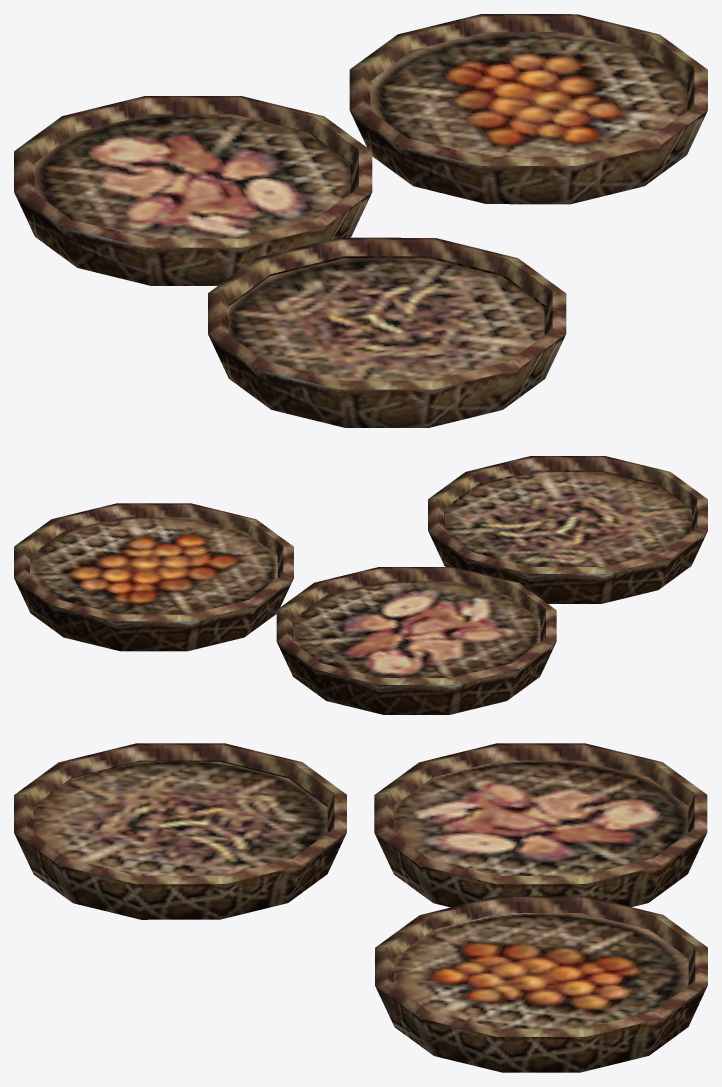
File: JJS_QY_YaoLou.FBX
The picture shows the model from 3 angles, top to bottom: view 1: azimuth 30°, elevation 25°; view 2: azimuth 150°, elevation 25°; view 3: azimuth 270°, elevation 25°; orthographic projection. The views are drawn at different scales.
Parts seen in each view (by area): view 1: JJS_QY_Yao1, JJS_QY_Yao2, JJS_QY_Yao3, JJS_QY_YaoLou3, JJS_QY_YaoLou1, JJS_QY_YaoLou2; view 2: JJS_QY_Yao1, JJS_QY_Yao2, JJS_QY_Yao3, JJS_QY_YaoLou2, JJS_QY_YaoLou1, JJS_QY_YaoLou3; view 3: JJS_QY_Yao1, JJS_QY_Yao2, JJS_QY_Yao3, JJS_QY_YaoLou3, JJS_QY_YaoLou1, JJS_QY_YaoLou2.
Part boxes in pixels (x1,y1,x2,y2): JJS_QY_Yao1: (370,32,687,156); JJS_QY_Yao2: (34,114,350,238); JJS_QY_Yao3: (228,258,544,380); JJS_QY_YaoLou3: (208,237,566,427); JJS_QY_YaoLou1: (349,14,707,204); JJS_QY_YaoLou2: (14,96,372,285); JJS_QY_Yao1: (30,517,277,614); JJS_QY_Yao2: (293,581,540,677); JJS_QY_Yao3: (445,472,691,566); JJS_QY_YaoLou2: (276,567,556,714); JJS_QY_YaoLou1: (14,503,293,651); JJS_QY_YaoLou3: (428,456,707,603); JJS_QY_Yao1: (394,913,688,1028); JJS_QY_Yao2: (394,760,688,875); JJS_QY_Yao3: (33,761,327,875); JJS_QY_YaoLou3: (14,743,346,919); JJS_QY_YaoLou1: (375,896,707,1072); JJS_QY_YaoLou2: (374,743,707,907).
Size of the model in its own units: 325 by 24.62 by 325.
